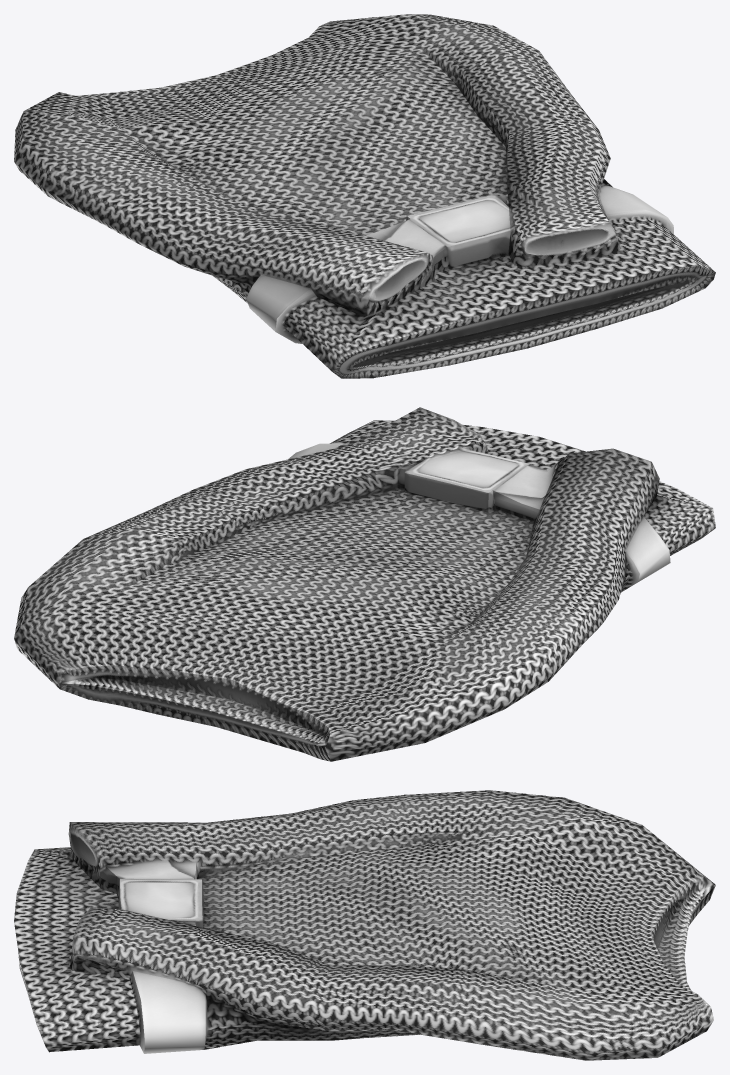
File: 033_a_mail_shirt.fbx
3 renders of one model, top to bottom at view 1: azimuth 30°, elevation 25°; view 2: azimuth 150°, elevation 25°; view 3: azimuth 270°, elevation 25°, orthographic. The views are drawn at different scales.
Visible parts, largest first — view 1: 033_a_mail_shirt; view 2: 033_a_mail_shirt; view 3: 033_a_mail_shirt.
Part boxes in pixels (bbox=[...]): 033_a_mail_shirt: bbox=[14, 14, 715, 378]; 033_a_mail_shirt: bbox=[14, 407, 715, 761]; 033_a_mail_shirt: bbox=[14, 790, 715, 1060].
Size of the model in its own units: 50.52 by 10.23 by 62.02.
